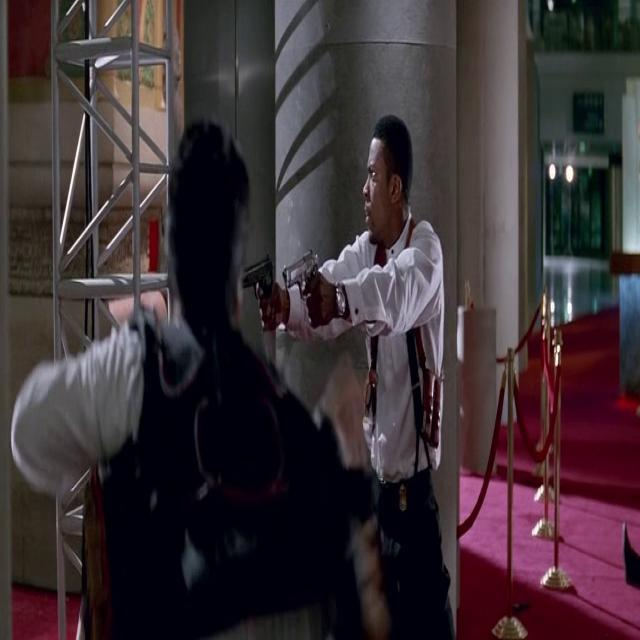gun-knife-thesis - v11 Yolov5 augmented: (282, 241, 326, 331), (238, 253, 276, 334)
